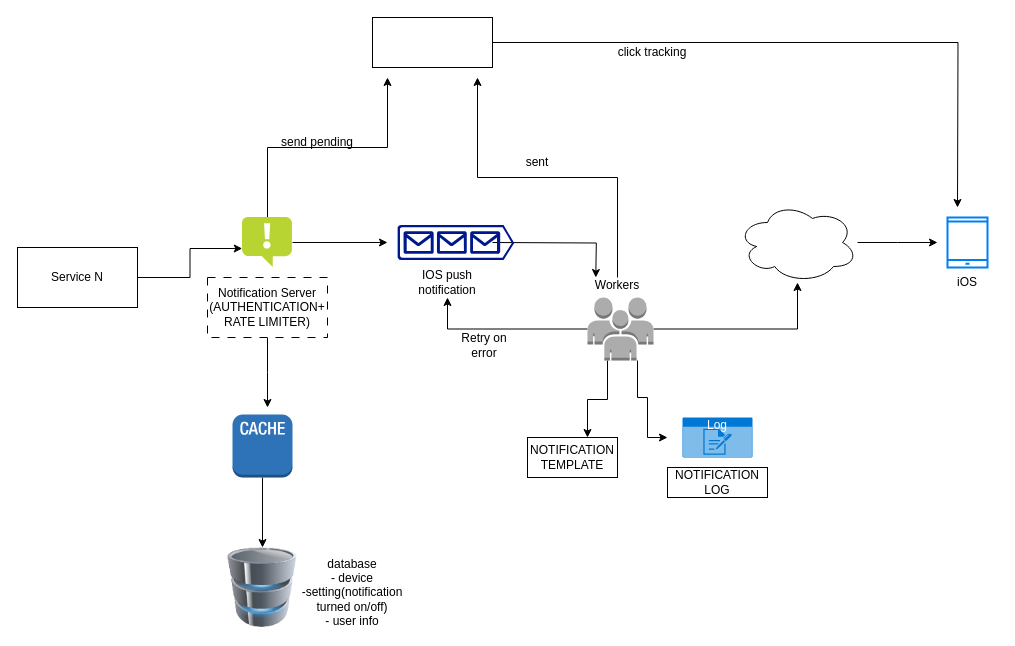
Image size: 1015x646. Some labels were removed from this diagram. The shapes that lost their labels are listed below. From the top down, each one's centre as x and y in pixels, then its label:
At pixel 432 42: "ANALYTICS SERVICE".
At pixel 797 242: "APNs".
